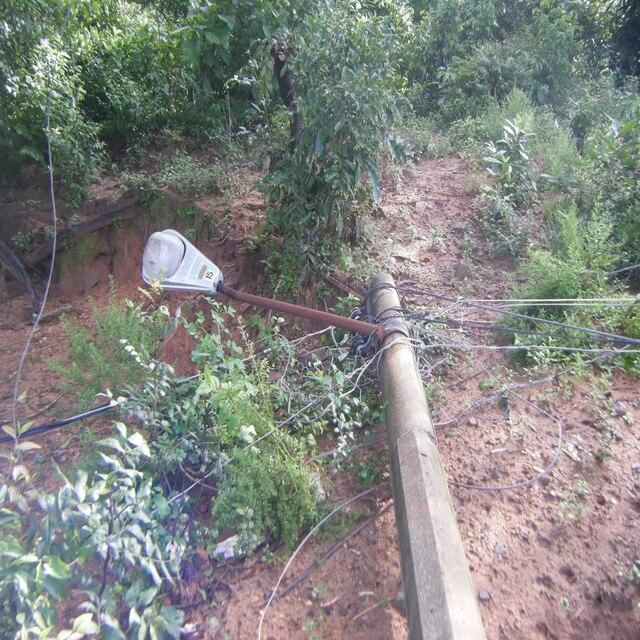Inclined Pole: (132, 225, 489, 640)
